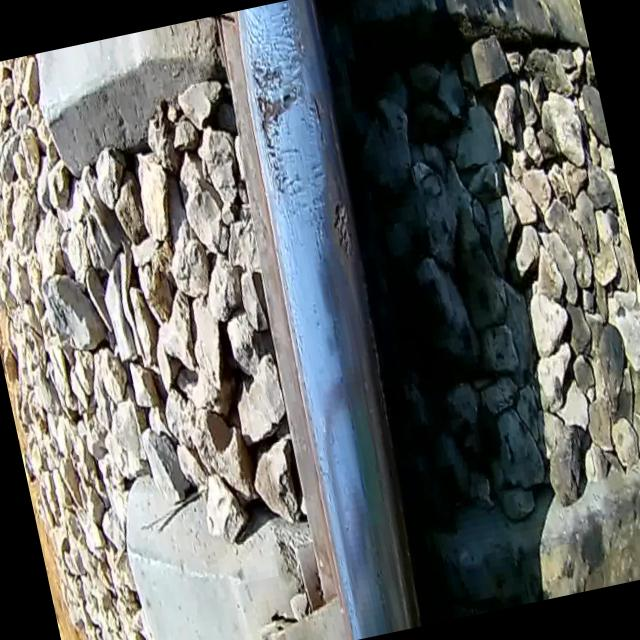Spallings: (245, 50, 322, 202), (328, 195, 360, 267), (304, 89, 332, 154)
Squats: (290, 77, 382, 340)
